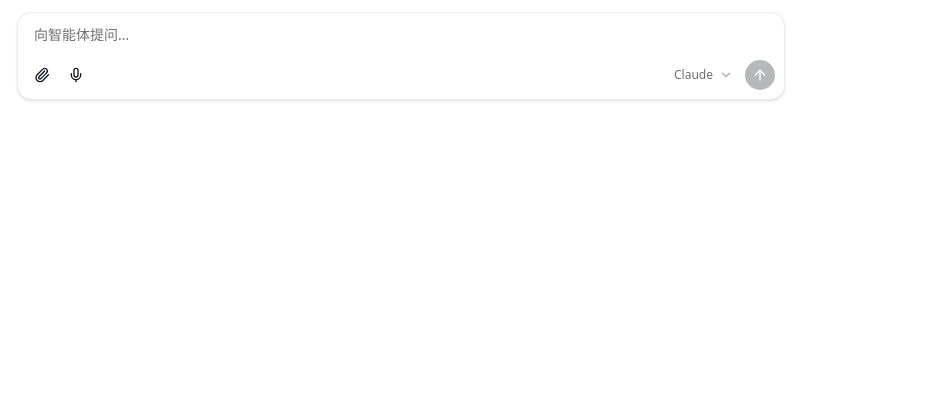
Test: Composer zh-CN › opens the AgentPicker and shows Chinese section headers
// Open the picker via /model on the textarea
In the text box with placeholder "向智能体提问…": x=401, y=33 [18,13,784,53], type "/model "
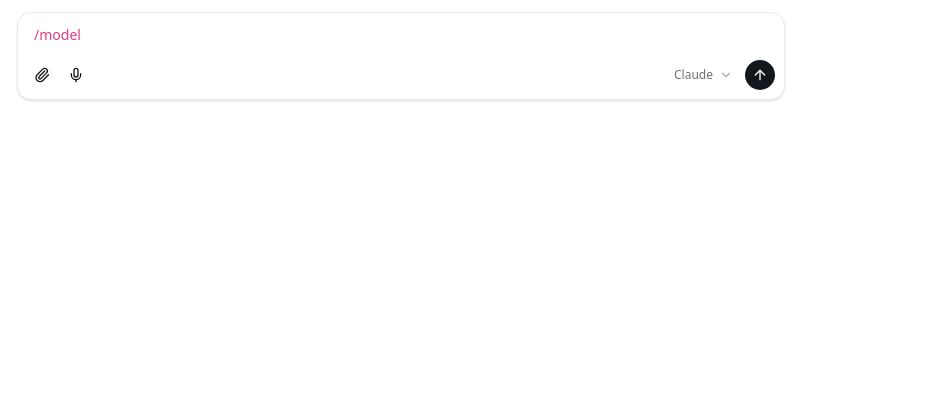
Press Enter in the text box named "向智能体发送消息", box [18,13,784,53]
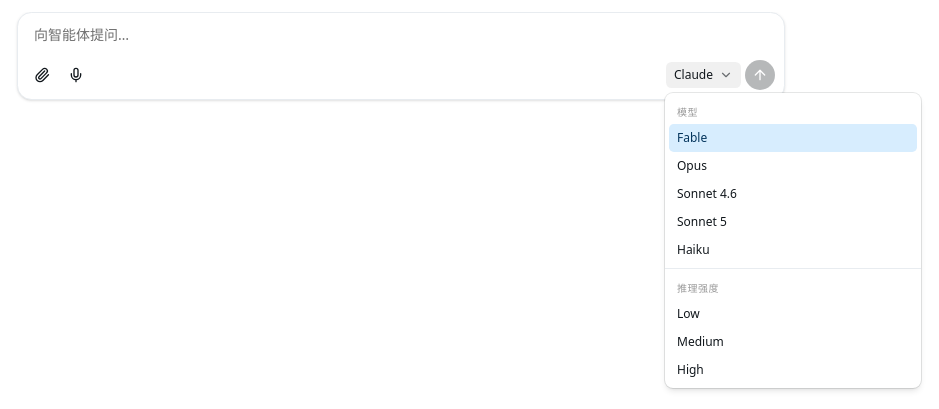
Expected: the menu item with test id "model-picker-item" is shown, [669,124,917,152]
Expected: the text "模型" is shown, [677,105,698,119]
Expected: the text "推理强度" is shown, [677,281,719,295]
